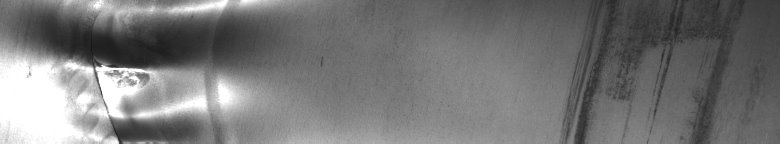ke: (54, 4, 226, 136)
